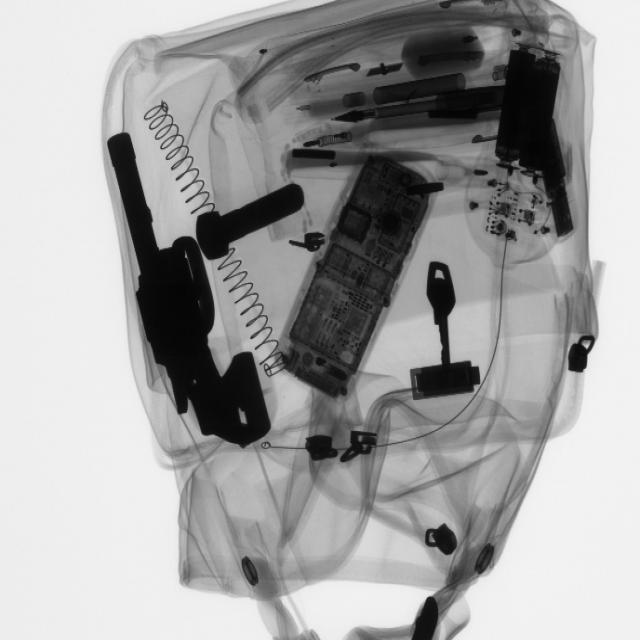GUN: (105, 128, 264, 448)
